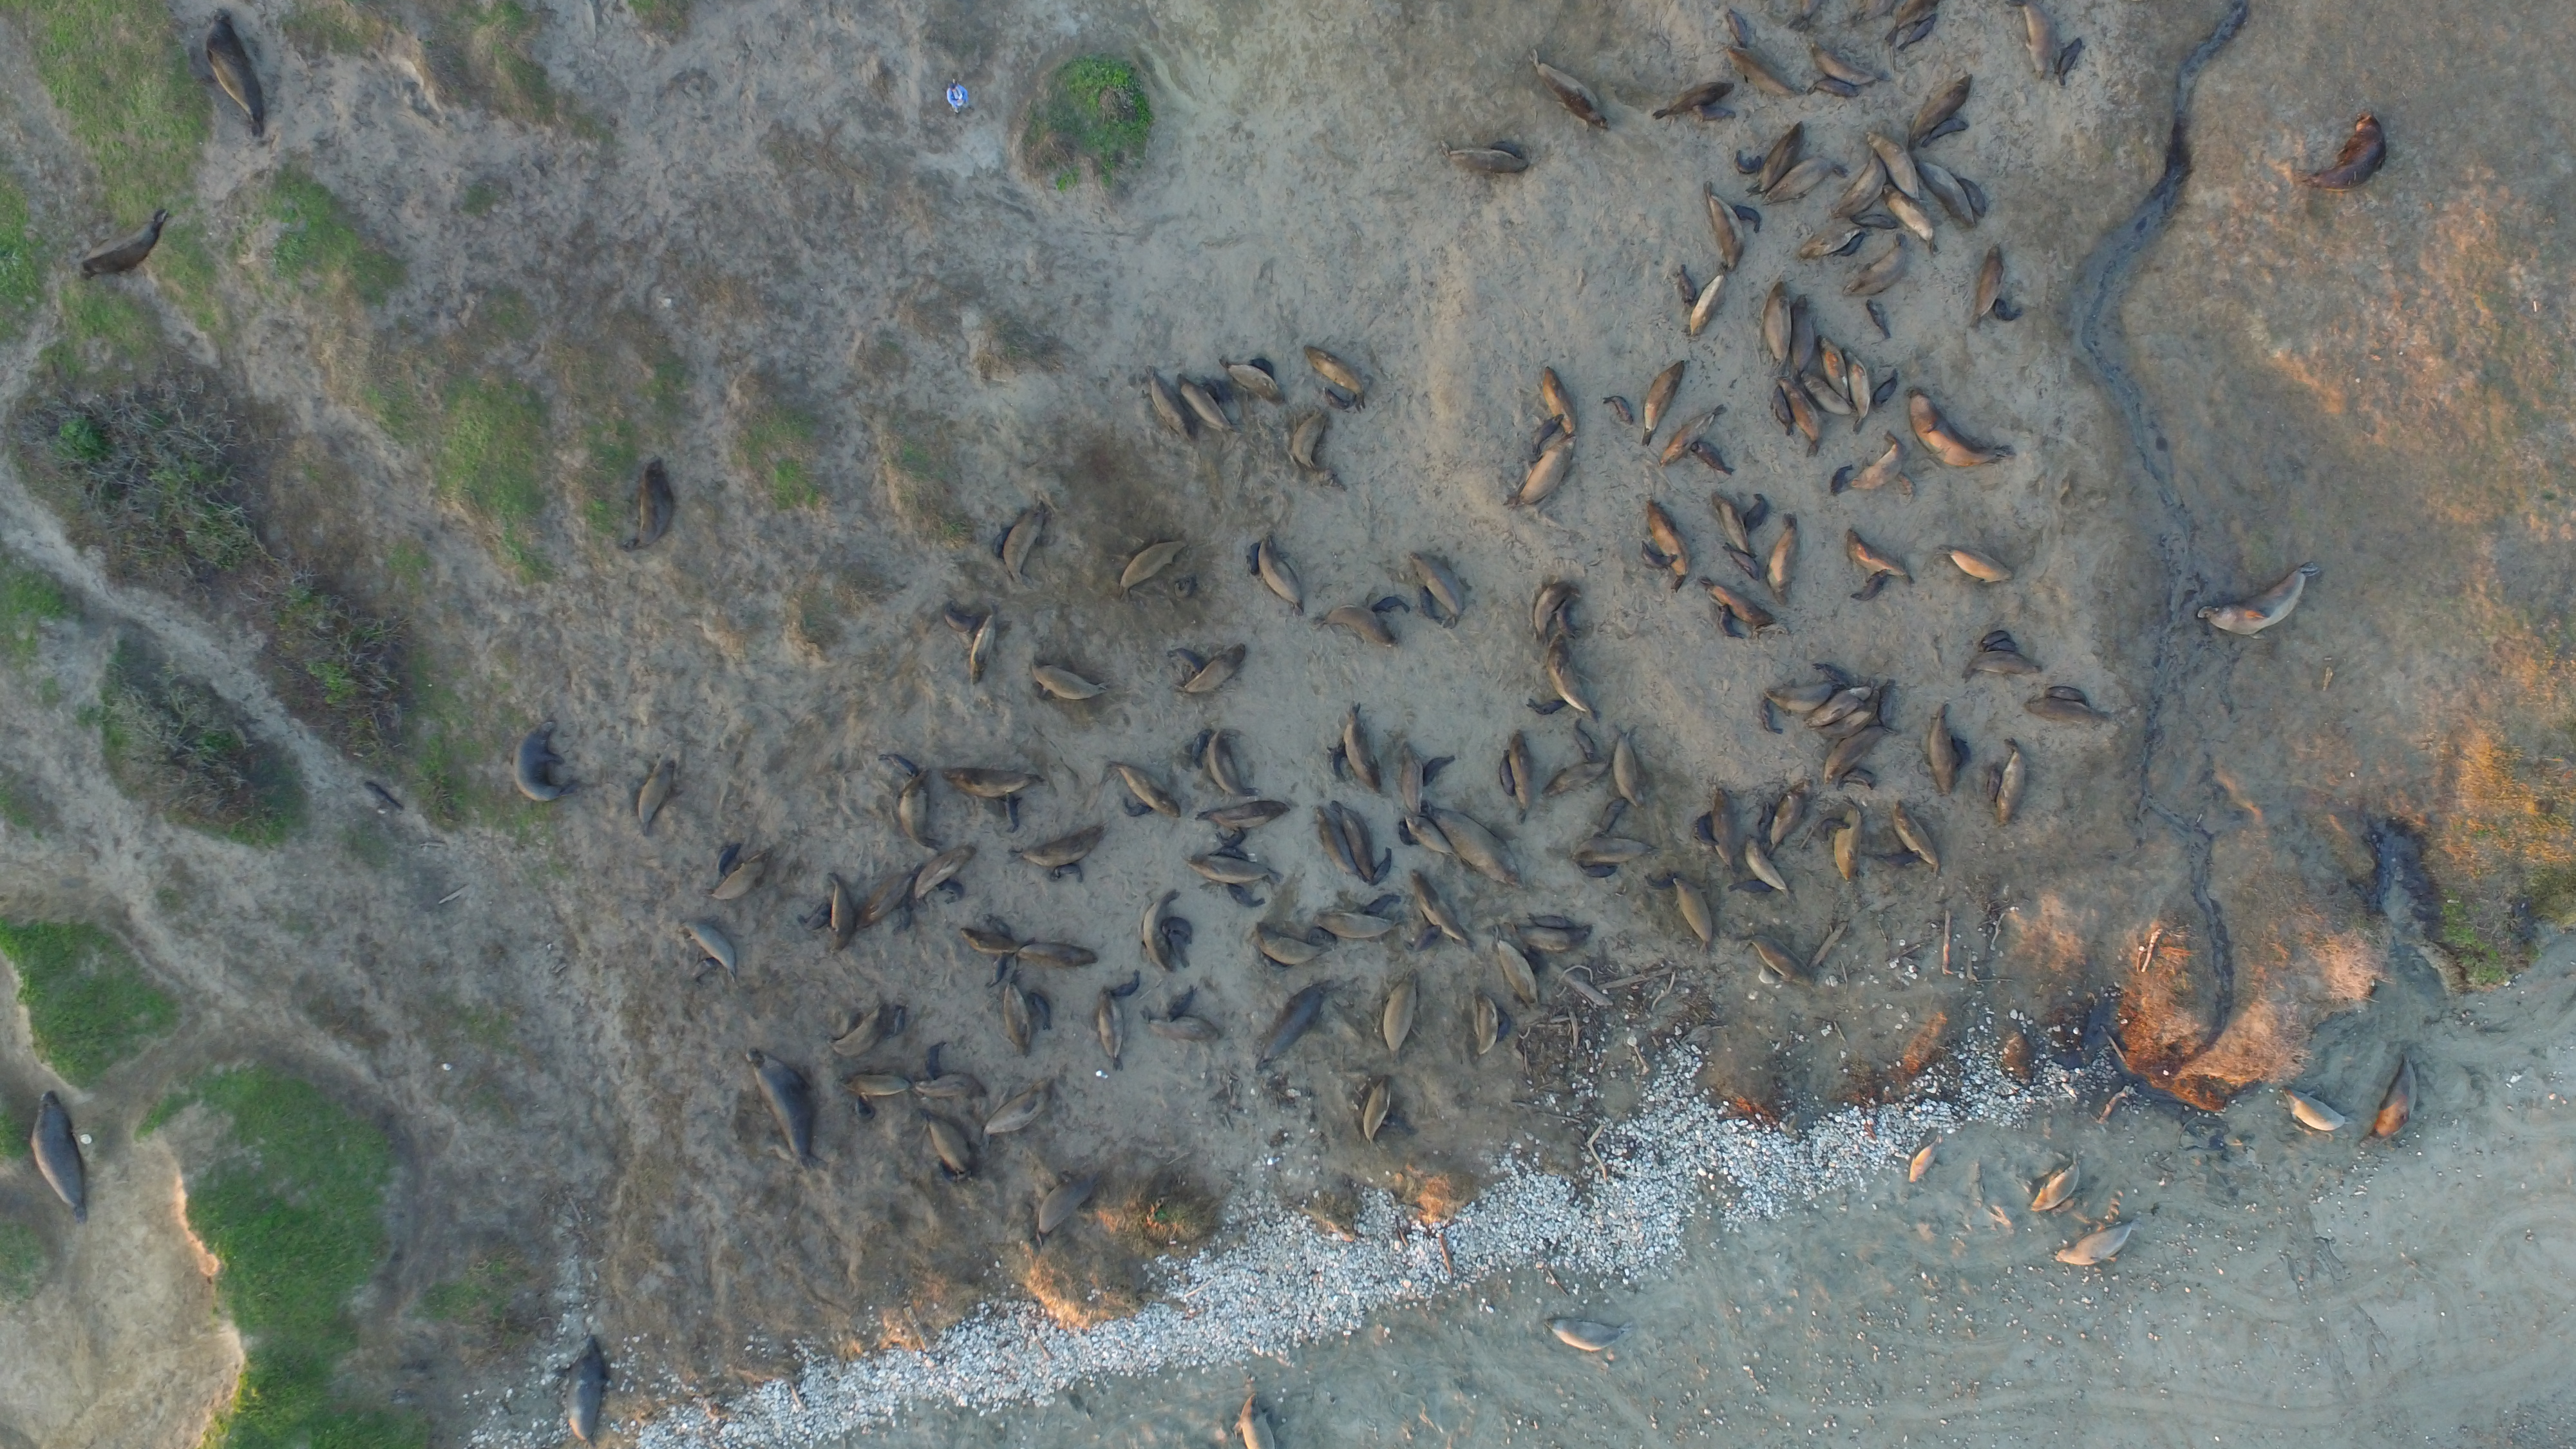adult male: (741, 1049, 826, 1173), (1905, 386, 2017, 474), (2286, 104, 2392, 188), (1424, 803, 1522, 890), (209, 12, 272, 142), (2203, 564, 2318, 635), (30, 1092, 92, 1223), (81, 209, 170, 274), (517, 718, 579, 807), (1035, 1161, 1100, 1240)
male juvenile / female juvenile / adult female: (1258, 977, 1334, 1072), (1527, 50, 1608, 133), (1502, 433, 1580, 508), (559, 1338, 607, 1447), (623, 458, 674, 552), (1143, 363, 1200, 448), (1030, 653, 1116, 708), (1408, 550, 1470, 626), (1645, 499, 1697, 589), (1111, 536, 1185, 598), (1656, 403, 1727, 467), (1414, 874, 1474, 948), (1913, 74, 1974, 145), (1001, 499, 1049, 589), (1741, 936, 1821, 989), (1010, 821, 1099, 869), (1826, 724, 1891, 787), (1329, 798, 1376, 885), (1698, 575, 1776, 628), (1111, 759, 1184, 816), (1844, 527, 1918, 582), (1674, 878, 1729, 952), (1546, 642, 1594, 727), (855, 860, 916, 925), (922, 1115, 987, 1177), (1215, 357, 1292, 410), (1343, 702, 1384, 801), (1881, 182, 1939, 251), (1207, 727, 1263, 798), (1891, 798, 1943, 876), (1870, 129, 1923, 203), (1260, 533, 1306, 617), (1194, 796, 1295, 833), (1173, 373, 1235, 433), (1253, 920, 1327, 970), (1753, 122, 1806, 191), (1493, 934, 1541, 1010), (916, 840, 977, 901), (989, 1081, 1049, 1141), (1920, 156, 1976, 219), (1642, 361, 1684, 446), (1302, 343, 1366, 400), (2373, 1058, 2417, 1139), (1658, 71, 1732, 119), (1704, 182, 1741, 278), (1316, 603, 1396, 648), (1177, 644, 1247, 694), (1939, 543, 2015, 589), (2056, 1223, 2134, 1267), (1923, 704, 1960, 796), (1380, 971, 1417, 1063), (1764, 156, 1835, 203), (1313, 807, 1361, 878), (1541, 1316, 1631, 1353), (945, 764, 1044, 798), (830, 996, 886, 1054), (1849, 235, 1909, 290), (683, 918, 738, 978), (1806, 683, 1875, 731), (1729, 50, 1799, 96), (708, 849, 773, 899), (899, 771, 939, 851), (639, 755, 679, 835), (1143, 890, 1182, 973), (1783, 377, 1826, 453), (1769, 778, 1813, 851), (1835, 150, 1890, 209), (1760, 285, 1798, 370), (1187, 855, 1286, 886), (2282, 1085, 2348, 1132), (1971, 244, 2006, 331), (1743, 835, 1792, 897), (1821, 688, 1884, 736), (1767, 513, 1799, 609), (1408, 819, 1468, 869), (2015, 0, 2052, 80), (1437, 142, 1529, 173), (1801, 209, 1861, 257), (1996, 736, 2029, 821), (1711, 494, 1757, 556), (1290, 407, 1336, 469), (835, 1062, 916, 1095), (1095, 993, 1129, 1072), (1541, 366, 1580, 433), (1960, 646, 2047, 676), (1511, 924, 1603, 952), (968, 603, 1000, 685), (1141, 1010, 1223, 1042), (1691, 269, 1729, 338), (1858, 435, 1900, 495), (1530, 579, 1573, 639), (1571, 833, 1656, 863), (2031, 1157, 2079, 1210), (1815, 44, 1879, 83), (1315, 911, 1396, 941), (1235, 1396, 1281, 1449), (915, 1063, 987, 1097), (1546, 757, 1612, 794), (1361, 1077, 1394, 1145), (1829, 800, 1858, 879), (826, 874, 855, 954), (1764, 679, 1838, 709), (959, 925, 1037, 954), (1801, 373, 1851, 418), (1003, 980, 1030, 1062), (1713, 789, 1739, 869), (1819, 336, 1851, 402), (1396, 741, 1422, 819), (1845, 350, 1870, 432), (2029, 694, 2116, 717), (1890, 0, 1939, 39), (1617, 729, 1640, 810), (1021, 941, 1100, 962), (1507, 732, 1527, 817), (1472, 993, 1493, 1062), (1909, 1136, 1941, 1180), (1799, 301, 1815, 384), (1792, 0, 1821, 28)
pup: (1530, 414, 1560, 462), (1720, 541, 1759, 577), (1767, 384, 1794, 435), (1223, 878, 1267, 908), (1637, 540, 1674, 575), (1851, 568, 1890, 602), (936, 607, 978, 637), (683, 954, 720, 987), (1596, 796, 1624, 839), (876, 750, 918, 778), (1599, 393, 1633, 428), (1693, 441, 1730, 472), (1865, 301, 1895, 340), (1688, 814, 1718, 853), (1960, 175, 1989, 214), (1164, 985, 1192, 1024), (1902, 18, 1936, 50), (1421, 755, 1454, 787), (1716, 605, 1744, 642), (803, 895, 832, 932), (1870, 372, 1897, 410), (2059, 37, 2082, 81), (1522, 699, 1578, 717), (936, 1162, 973, 1189), (1928, 119, 1969, 142), (1985, 764, 2008, 805), (1836, 768, 1877, 791), (1741, 490, 1764, 531), (1171, 646, 1200, 678), (1030, 993, 1051, 1035), (1674, 265, 1697, 304), (1573, 722, 1596, 761), (717, 839, 740, 878), (1120, 794, 1154, 821), (1759, 702, 1783, 738), (980, 952, 1005, 987), (1329, 743, 1350, 784), (924, 1037, 945, 1077), (1166, 936, 1194, 966), (1325, 387, 1357, 414), (853, 1093, 879, 1125), (1499, 750, 1518, 793), (1191, 727, 1210, 770), (1727, 12, 1750, 48), (991, 524, 1014, 559), (1736, 202, 1764, 230), (1757, 964, 1785, 993), (1734, 150, 1764, 177), (1412, 925, 1442, 952), (1166, 916, 1196, 943), (1953, 736, 1973, 777), (1258, 952, 1290, 977), (1049, 860, 1086, 881), (1003, 791, 1021, 835), (1882, 681, 1897, 736), (1725, 879, 1778, 893), (1421, 586, 1438, 628), (1555, 602, 1573, 642), (1529, 911, 1573, 927), (1815, 663, 1844, 688), (1247, 356, 1276, 380), (1373, 847, 1392, 883), (1361, 895, 1399, 913), (1812, 80, 1854, 96), (1111, 971, 1136, 998), (897, 893, 915, 931), (890, 1005, 908, 1042), (1985, 637, 2019, 656), (1833, 465, 1854, 495), (1215, 830, 1242, 853), (1759, 803, 1775, 840), (1821, 817, 1851, 837), (1881, 855, 1921, 869), (1842, 234, 1863, 260), (987, 915, 1014, 936), (1578, 863, 1617, 878), (1691, 106, 1736, 119), (1851, 218, 1902, 228), (1996, 299, 2020, 320), (1497, 1010, 1511, 1047), (1247, 538, 1261, 575), (938, 883, 964, 902), (1644, 874, 1675, 890), (1375, 598, 1410, 612), (1173, 580, 1196, 602), (1309, 931, 1336, 948), (1215, 847, 1253, 860), (2051, 681, 2086, 694), (1980, 628, 2015, 640), (1398, 824, 1414, 847)
